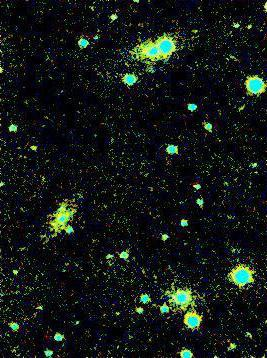star: (237, 6, 267, 36)
